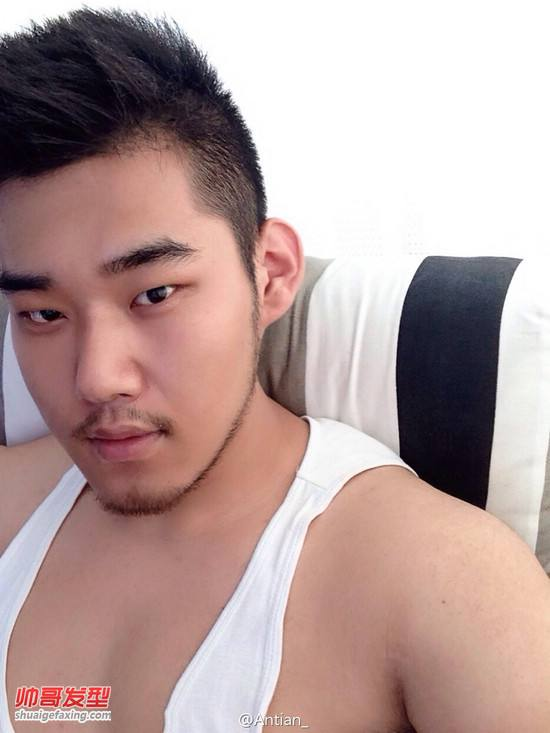person: (1, 35, 301, 504)
